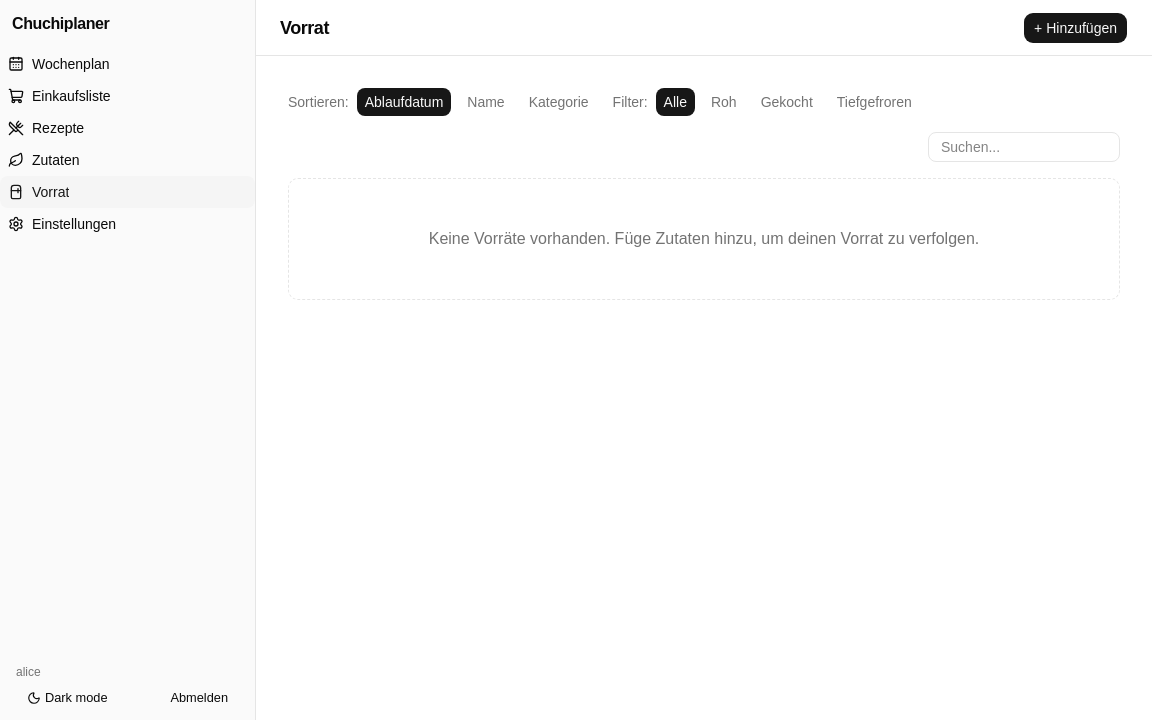
Test case: InventoryPage › includes 'Msp' in the unit dropdowns
Step 1. Click the button "+ Hinzufügen" → click(1076, 28), box 1023,12 -> 1128,44
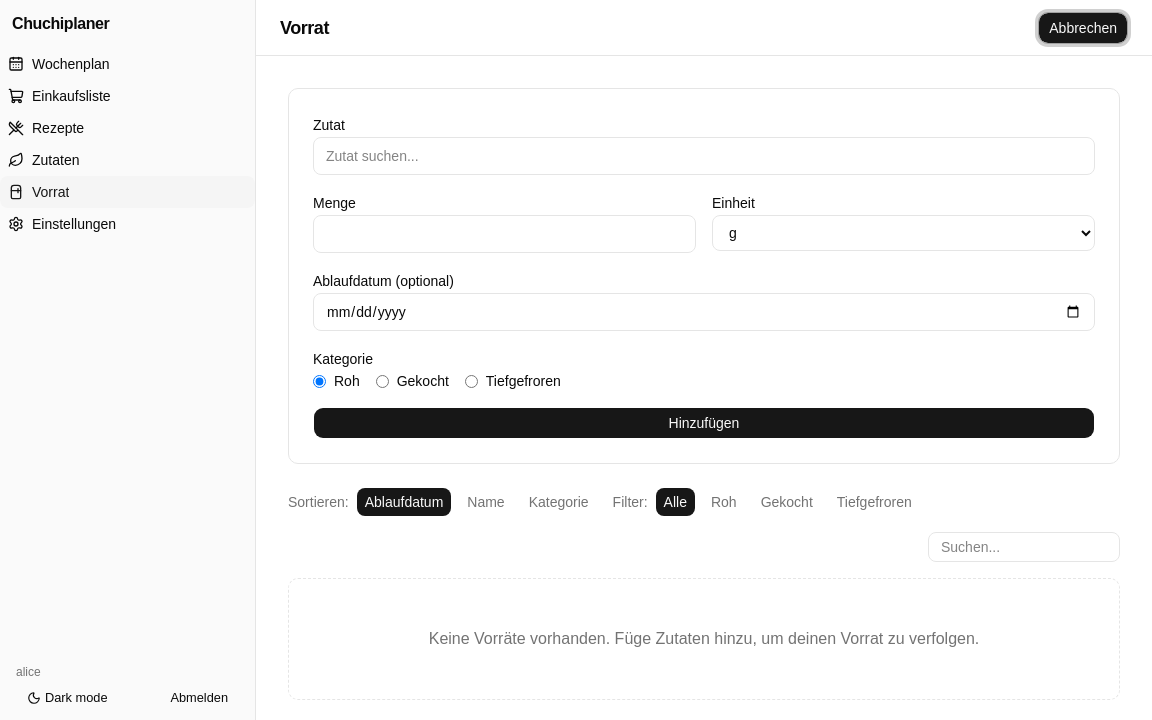
expect the dropdown is shown: met, box 712,215 -> 1095,251
